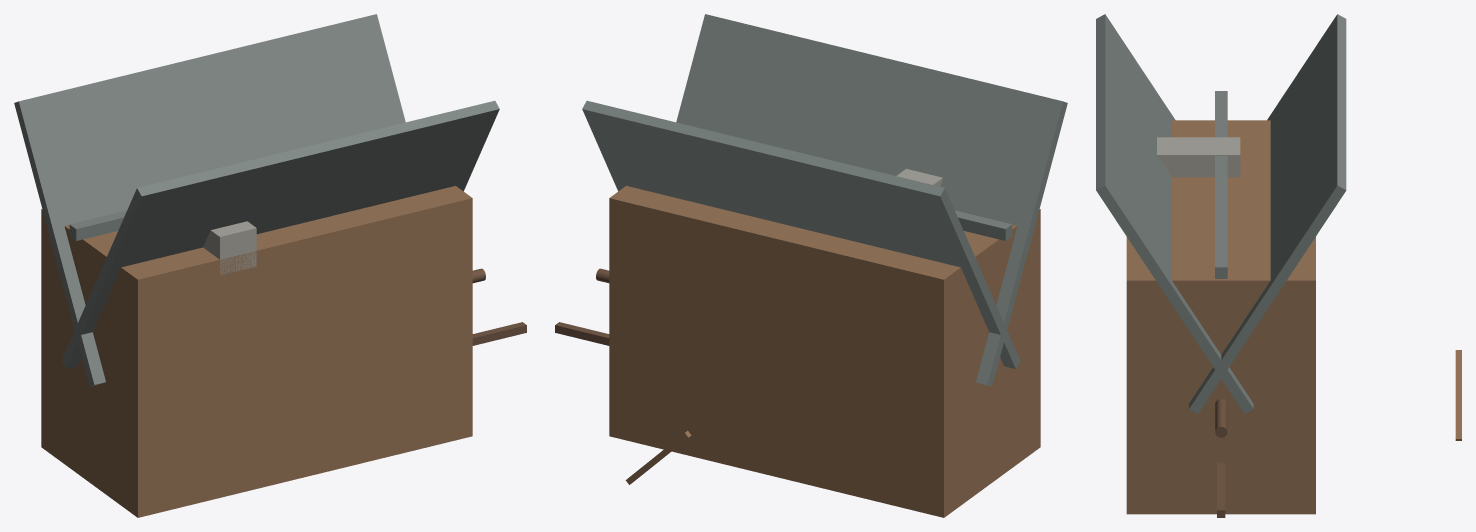
The model's file is mill.glb.
3 renders of one model, left to right at view 1: azimuth 30°, elevation 25°; view 2: azimuth 150°, elevation 25°; view 3: azimuth 270°, elevation 25°, orthographic.
Parts seen in each view (by area): view 1: mill_body, roof_-1, roof_1, chimney, ridge, mill_beam; view 2: mill_body, roof_1, roof_-1, ridge, mill_beam; view 3: mill_body, roof_-1, roof_1, chimney, ridge, wheel_spoke, mill_beam, waterwheel.
Part boxes in pixels (left/top/right/bottom): mill_body: left=41, top=186, right=472, bottom=517; roof_-1: left=14, top=14, right=405, bottom=386; roof_1: left=61, top=100, right=499, bottom=368; chimney: left=203, top=221, right=256, bottom=274; ridge: left=69, top=210, right=126, bottom=240; mill_beam: left=472, top=322, right=526, bottom=345; mill_body: left=609, top=186, right=1040, bottom=517; roof_1: left=676, top=14, right=1067, bottom=386; roof_-1: left=582, top=100, right=1020, bottom=368; ridge: left=955, top=210, right=1012, bottom=240; mill_beam: left=555, top=322, right=609, bottom=345; mill_body: left=1126, top=120, right=1315, bottom=514; roof_-1: left=1189, top=14, right=1346, bottom=413; roof_1: left=1096, top=14, right=1253, bottom=414; chimney: left=1157, top=137, right=1240, bottom=177; ridge: left=1215, top=91, right=1227, bottom=278; wheel_spoke: left=1455, top=350, right=1461, bottom=440; mill_beam: left=1217, top=462, right=1225, bottom=517; waterwheel: left=1215, top=398, right=1227, bottom=437.
Bounding box in the file's own units: 13.5 × 9.73 × 9.65.
